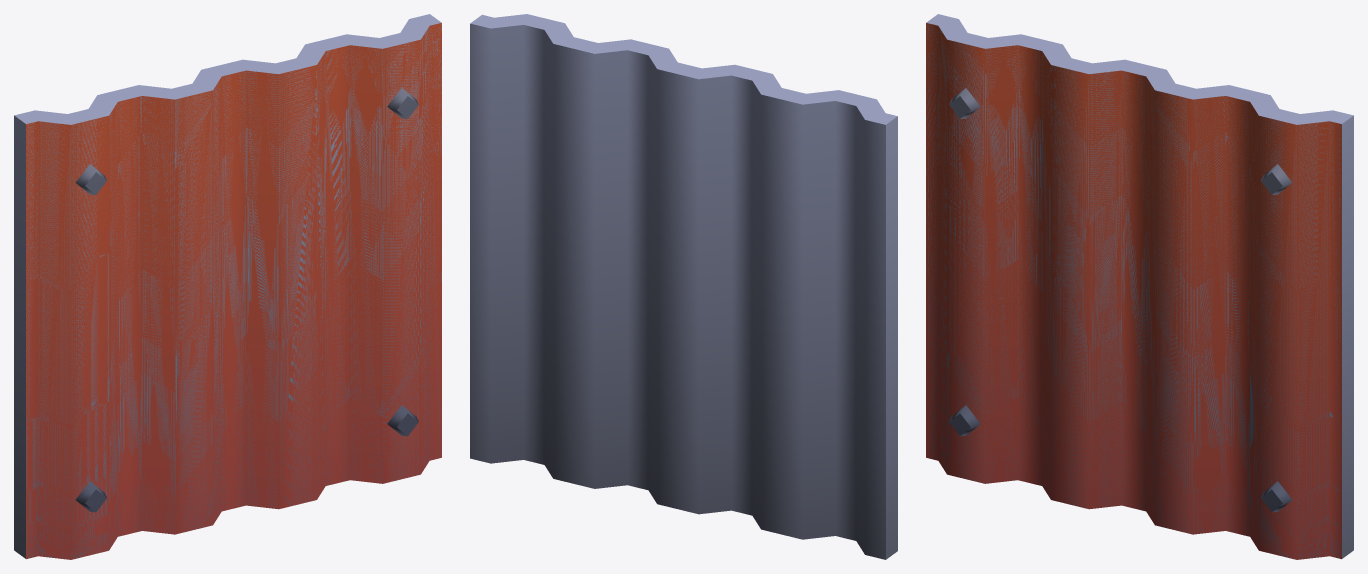
File: metal-panel-screws.glb
3 renders of one model, left to right at view 1: azimuth 30°, elevation 25°; view 2: azimuth 150°, elevation 25°; view 3: azimuth 330°, elevation 25°, orthographic.
Parts seen in each view (by area): view 1: metal-panel-screws; view 2: metal-panel-screws; view 3: metal-panel-screws.
Part boxes in pixels (left/top/right/bottom): metal-panel-screws: left=14, top=14, right=441, bottom=559; metal-panel-screws: left=470, top=14, right=897, bottom=559; metal-panel-screws: left=926, top=14, right=1353, bottom=559.
Bounding box in the file's own units: 0.5 × 0.5 × 0.0625.
